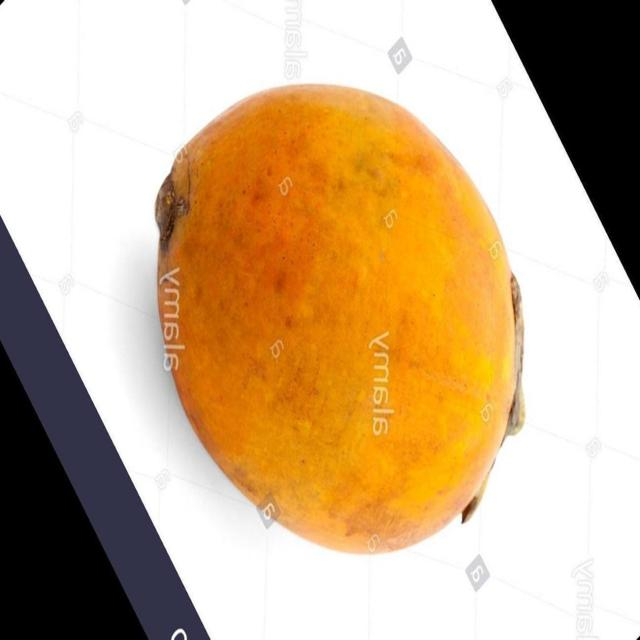good: (152, 84, 522, 558)
